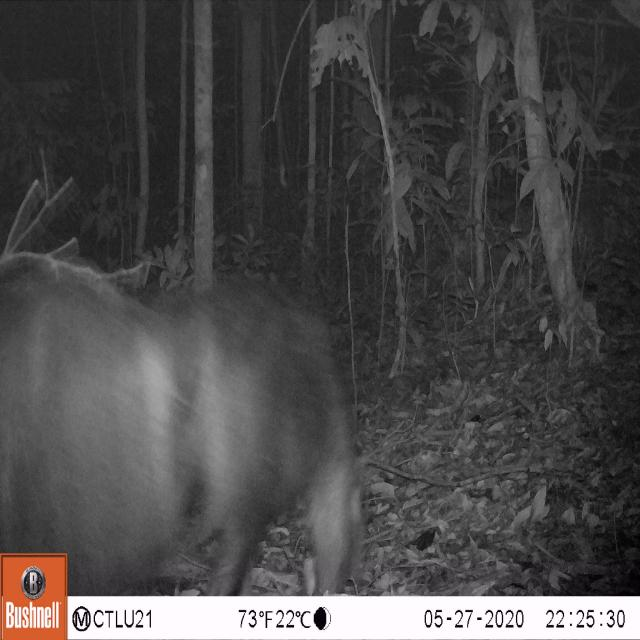Giant Anteater: (0, 237, 382, 592)
